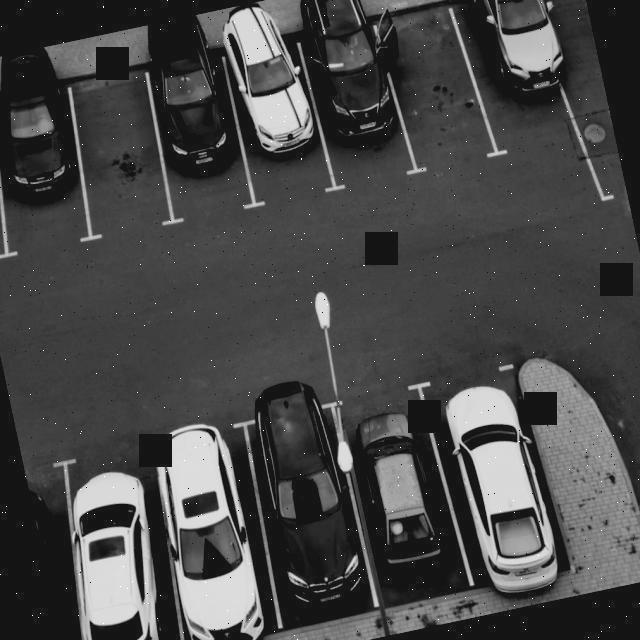car: (424, 350, 572, 596), (330, 375, 473, 617), (240, 389, 378, 629), (46, 425, 191, 640), (149, 410, 283, 640), (222, 30, 338, 212), (304, 11, 419, 192), (144, 51, 258, 228), (0, 69, 97, 256), (456, 1, 570, 160), (23, 457, 112, 640), (1, 84, 14, 261)
free: (379, 0, 498, 178), (62, 57, 176, 239)
